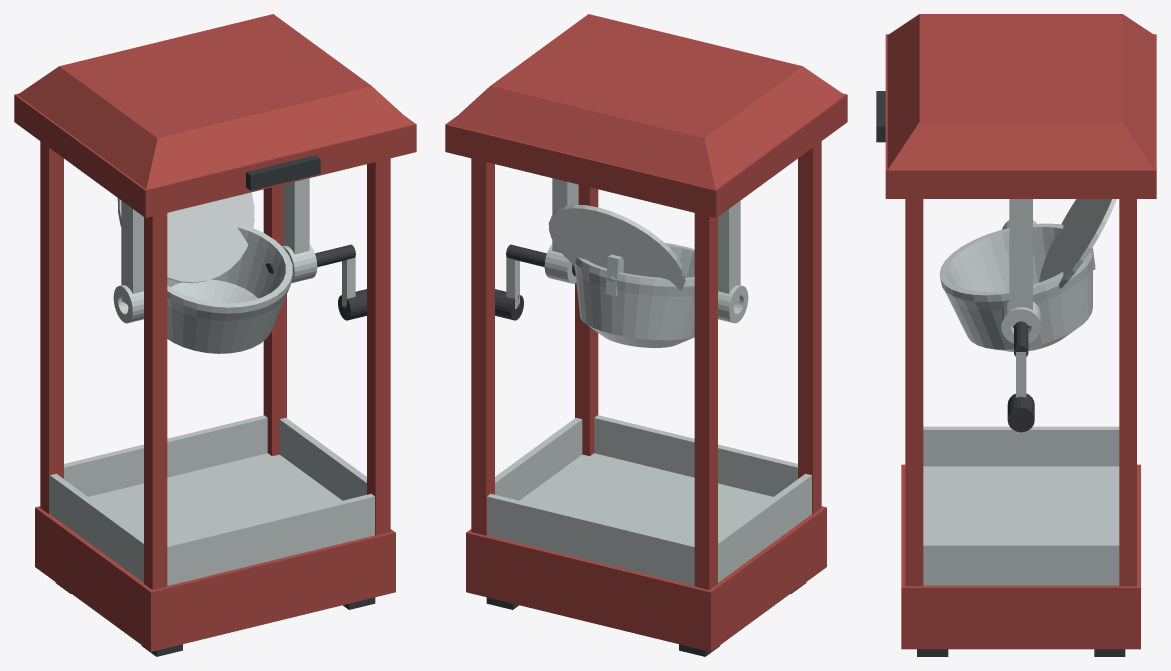
The picture shows the model from 3 angles, left to right: view 1: azimuth 30°, elevation 25°; view 2: azimuth 150°, elevation 25°; view 3: azimuth 270°, elevation 25°; orthographic projection. The views are drawn at different scales.
Parts seen in each view (by area): view 1: WholeSlopedCanopyCrown, WholeContinuousOpenReceivingTrough, WholeRaisedCabinetPlinth, WholeCanopyLowerCornice, WholeFixedOpenKettle, WholeCanopyCornerPost_(-0.255, -0.205), WholeCanopyCornerPost_(0.255, -0.205), WholeCanopyCornerPost_(-0.255, 0.205), WholeFixedRaisedKettleCover, WholeCanopyCornerPost_(0.255, 0.205), LeftWholeRoofHanger, RightWholeRoofHanger (+6 smaller); view 2: WholeSlopedCanopyCrown, WholeContinuousOpenReceivingTrough, WholeRaisedCabinetPlinth, WholeCanopyLowerCornice, WholeCanopyCornerPost_(-0.255, 0.205), WholeCanopyCornerPost_(0.255, 0.205), WholeFixedOpenKettle, WholeCanopyCornerPost_(-0.255, -0.205), WholeFixedRaisedKettleCover, WholeCanopyCornerPost_(0.255, -0.205), LeftWholeRoofHanger, LeftWholeKettleBearing (+5 smaller); view 3: WholeSlopedCanopyCrown, WholeContinuousOpenReceivingTrough, WholeRaisedCabinetPlinth, WholeFixedOpenKettle, WholeCanopyLowerCornice, WholeCanopyCornerPost_(0.255, -0.205), WholeCanopyCornerPost_(0.255, 0.205), WholeFixedRaisedKettleCover, RightWholeRoofHanger, RightWholeKettleBearing, WholeRightDarkCrankGrip, WholeBlankCanopyControlPanel (+2 smaller).
Boxes of the visible parts, box(x1,y1,x2,y2) form: WholeSlopedCanopyCrown: box(17, 14, 413, 189); WholeContinuousOpenReceivingTrough: box(50, 415, 374, 585); WholeRaisedCabinetPlinth: box(35, 506, 395, 651); WholeCanopyLowerCornice: box(14, 93, 416, 217); WholeFixedOpenKettle: box(167, 225, 292, 353); WholeCanopyCornerPost_(-0.255, -0.205): box(144, 213, 167, 589); WholeCanopyCornerPost_(0.255, -0.205): box(367, 158, 390, 535); WholeCanopyCornerPost_(-0.255, 0.205): box(40, 141, 63, 514); WholeFixedRaisedKettleCover: box(117, 192, 254, 283); WholeCanopyCornerPost_(0.255, 0.205): box(263, 184, 286, 456); LeftWholeRoofHanger: box(121, 200, 143, 304); RightWholeRoofHanger: box(283, 178, 309, 254); WholeSlopedCanopyCrown: box(448, 14, 844, 189); WholeContinuousOpenReceivingTrough: box(487, 415, 811, 585); WholeRaisedCabinetPlinth: box(466, 506, 826, 651); WholeCanopyLowerCornice: box(445, 93, 847, 217); WholeCanopyCornerPost_(-0.255, 0.205): box(694, 213, 717, 589); WholeCanopyCornerPost_(0.255, 0.205): box(471, 158, 494, 535); WholeFixedOpenKettle: box(574, 242, 694, 347); WholeCanopyCornerPost_(-0.255, -0.205): box(798, 141, 821, 514); WholeFixedRaisedKettleCover: box(548, 204, 685, 290); WholeCanopyCornerPost_(0.255, -0.205): box(575, 184, 598, 456); LeftWholeRoofHanger: box(718, 200, 740, 304); LeftWholeKettleBearing: box(718, 285, 748, 323); WholeSlopedCanopyCrown: box(887, 14, 1154, 169); WholeContinuousOpenReceivingTrough: box(923, 426, 1119, 585); WholeRaisedCabinetPlinth: box(901, 464, 1140, 649); WholeFixedOpenKettle: box(939, 223, 1093, 351); WholeCanopyLowerCornice: box(885, 34, 1156, 198); WholeCanopyCornerPost_(0.255, -0.205): box(905, 199, 923, 586); WholeCanopyCornerPost_(0.255, 0.205): box(1119, 199, 1136, 586); WholeFixedRaisedKettleCover: box(1039, 199, 1116, 288); RightWholeRoofHanger: box(1009, 199, 1032, 325); RightWholeKettleBearing: box(1001, 301, 1040, 343); WholeRightDarkCrankGrip: box(1007, 393, 1034, 432); WholeBlankCanopyControlPanel: box(876, 91, 885, 142).
Bounding box in the file's own units: 0.675 × 1.13 × 0.538.
